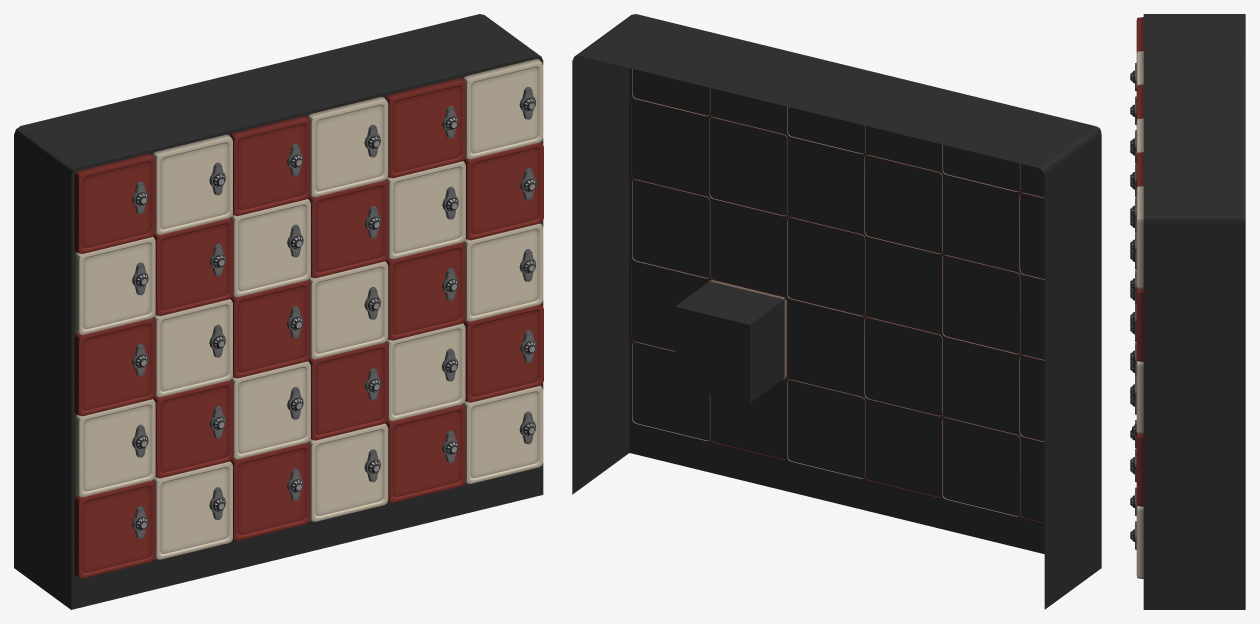
File: bowling locker.glb
3 views of the same model, side by side, from view 1: azimuth 30°, elevation 25°; view 2: azimuth 150°, elevation 25°; view 3: azimuth 270°, elevation 25° (orthographic). The views are drawn at different scales.
Parts seen in each view (by area): view 1: BowlingAlley_Lockers, BowlingAlley_LockerDoor; view 2: BowlingAlley_Lockers; view 3: BowlingAlley_Lockers.
Part boxes in pixels (x1=…): BowlingAlley_Lockers: x1=14, y1=14, x2=543, y2=609; BowlingAlley_LockerDoor: x1=386, y1=323, x2=465, y2=421; BowlingAlley_Lockers: x1=572, y1=14, x2=1101, y2=609; BowlingAlley_Lockers: x1=1130, y1=14, x2=1245, y2=609.
Bounding box in the file's own units: 3.08 × 2.75 × 0.7326.
1 material, 1 textured.
